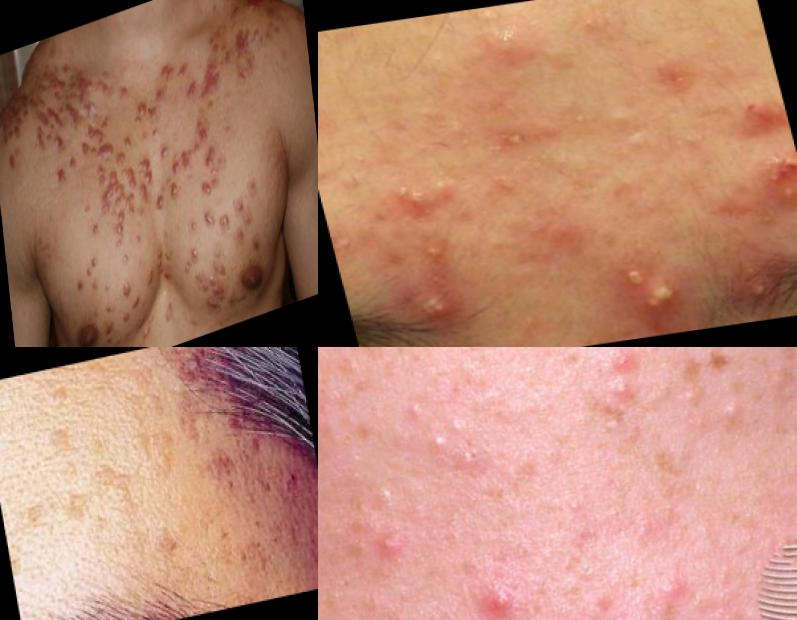flat_wart: (87, 457, 139, 497), (54, 488, 98, 525), (47, 425, 77, 459)
keloid: (192, 17, 260, 112), (92, 154, 140, 224), (71, 63, 115, 110), (178, 116, 213, 175), (26, 67, 68, 114), (120, 117, 168, 157), (36, 103, 68, 162), (159, 142, 185, 207), (52, 148, 84, 192), (160, 52, 192, 92), (149, 243, 177, 288), (118, 270, 145, 316), (196, 159, 224, 202), (136, 146, 155, 207), (203, 278, 231, 319), (131, 92, 158, 129), (204, 203, 231, 238), (85, 111, 112, 143), (184, 75, 203, 108), (95, 137, 118, 162), (6, 143, 23, 174), (85, 254, 101, 279), (188, 241, 204, 266), (187, 212, 200, 236)
papular: (657, 567, 709, 620), (712, 394, 757, 452), (731, 85, 780, 127), (478, 32, 527, 73), (595, 348, 640, 383), (415, 428, 454, 462), (364, 483, 403, 513), (455, 443, 487, 479)
purulent: (602, 255, 666, 290), (742, 273, 792, 316), (410, 232, 460, 270), (369, 526, 408, 571), (475, 589, 525, 620)
sebo-crystan-conglo: (621, 279, 703, 329), (751, 140, 797, 216), (405, 275, 467, 326), (490, 120, 534, 159)
whitehead: (592, 97, 661, 171), (380, 170, 465, 219)
